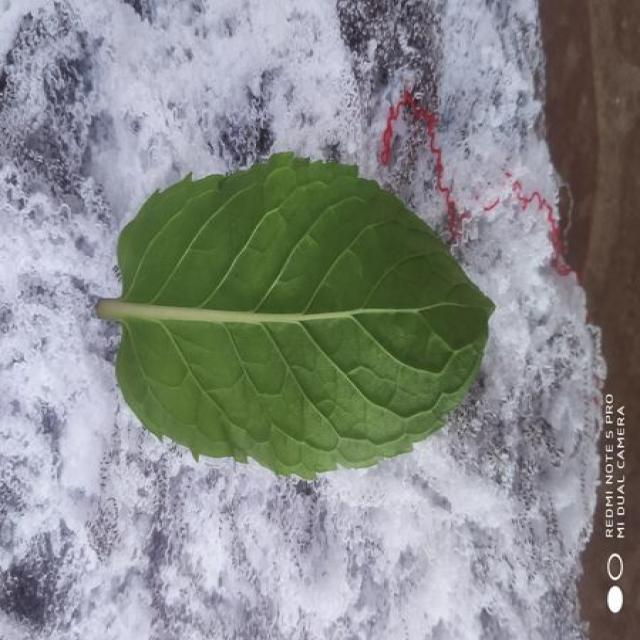mint: (97, 152, 493, 478)
